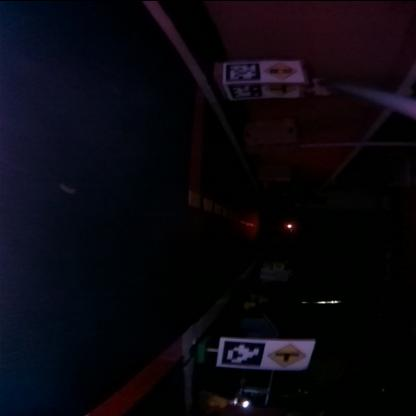Duckie: (208, 394, 229, 406), (245, 302, 257, 308), (252, 292, 258, 298), (261, 298, 267, 302)
Intersection sign: (270, 343, 308, 367), (267, 82, 292, 94)
QR code: (222, 339, 266, 365), (226, 62, 262, 80), (230, 82, 263, 96)
Signal sign: (264, 62, 298, 80)
Traffic light: (286, 221, 294, 226)
